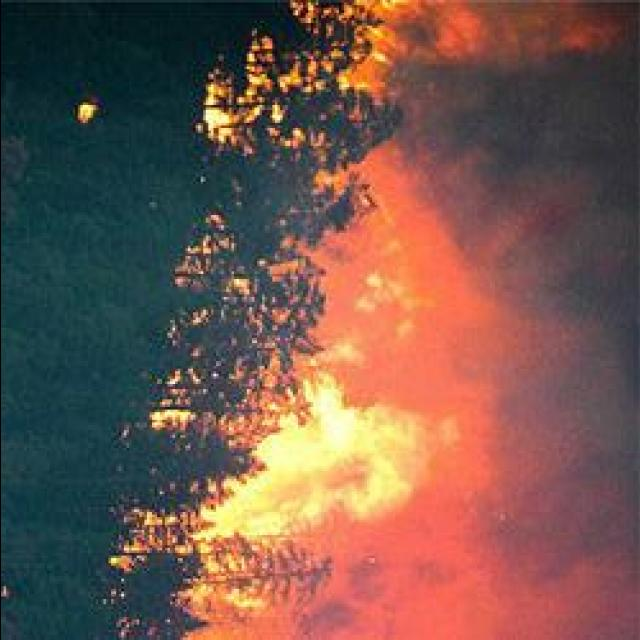fire: (257, 407, 430, 529)
smoke: (330, 558, 614, 640), (330, 222, 450, 402), (427, 4, 617, 76)
